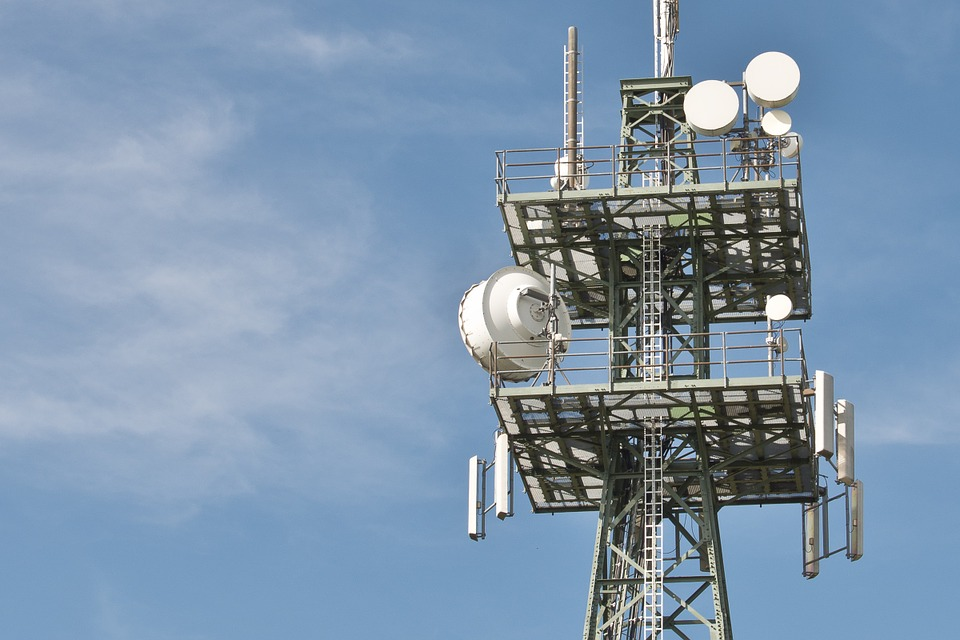a: (814, 368, 834, 460), (469, 455, 489, 542), (836, 396, 855, 486), (495, 434, 513, 522), (850, 481, 864, 561), (805, 505, 820, 579)
b: (461, 265, 572, 381), (683, 78, 739, 137), (742, 56, 806, 104), (764, 293, 795, 324), (758, 112, 794, 137), (780, 133, 806, 158)
